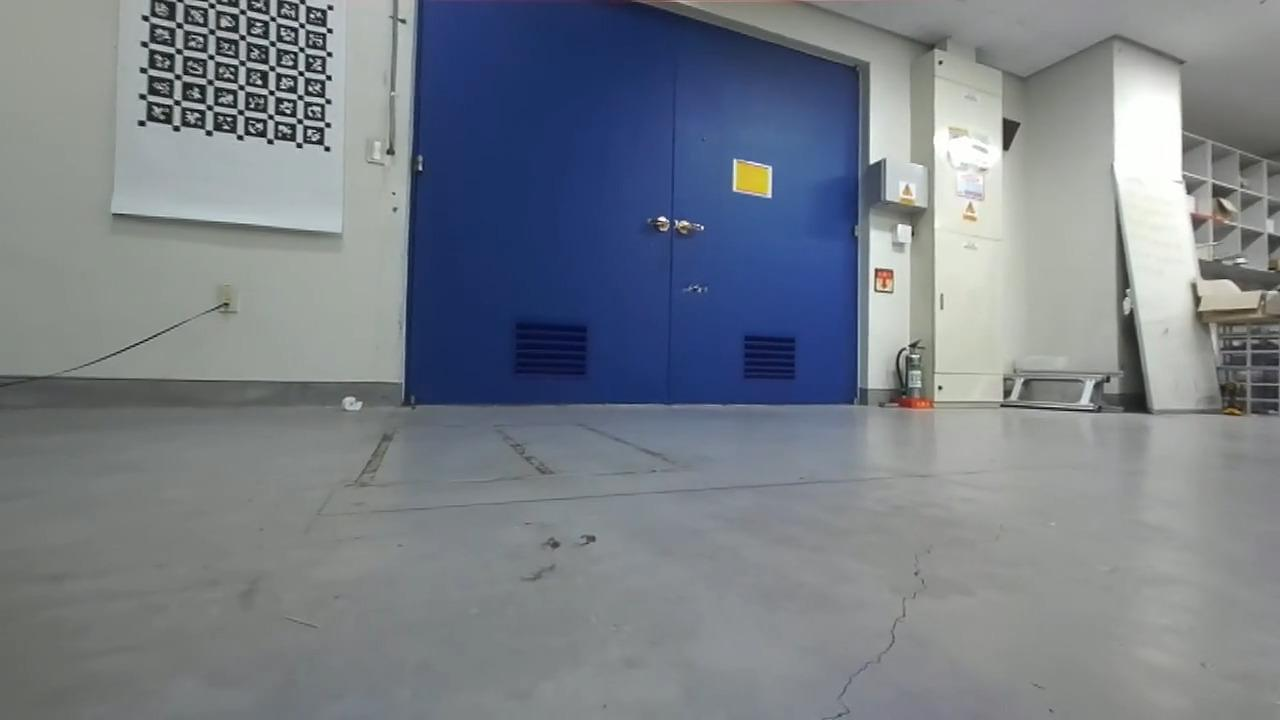crazyflie: (673, 277, 719, 302)
